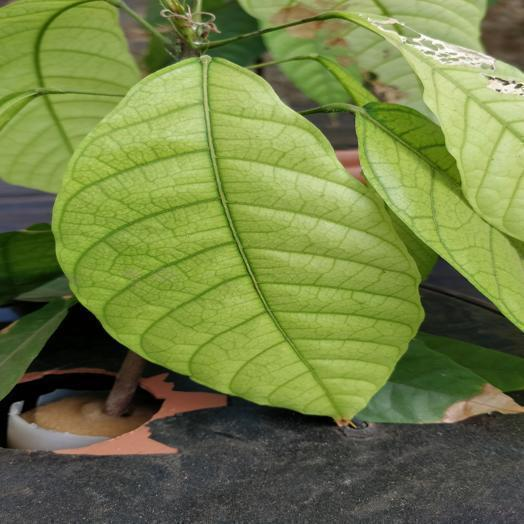Healthy Leaf: (357, 332, 523, 423), (0, 299, 75, 398), (0, 224, 62, 304)
Iron: (53, 57, 423, 417), (356, 104, 523, 328), (366, 15, 523, 240), (238, 0, 487, 115), (0, 0, 139, 191)
